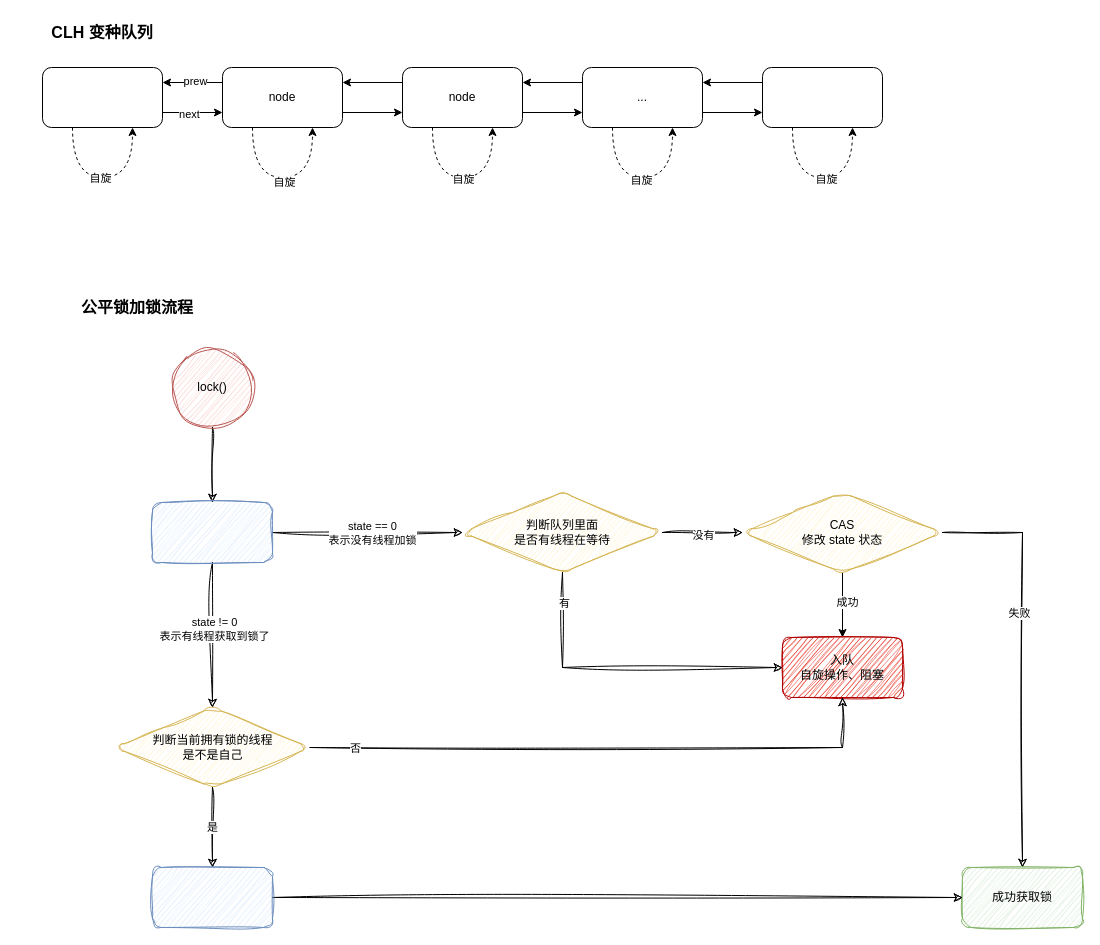
Some shapes in this 1100 by 945 pixel diagram are drawn without their labels. Here are the shapes that lost their labels. From the top down, the box of each, then its label:
(42, 66, 162, 128): head
(762, 66, 882, 128): tail
(152, 502, 272, 562): 获取锁状态 state
(152, 866, 272, 928): state+=1
